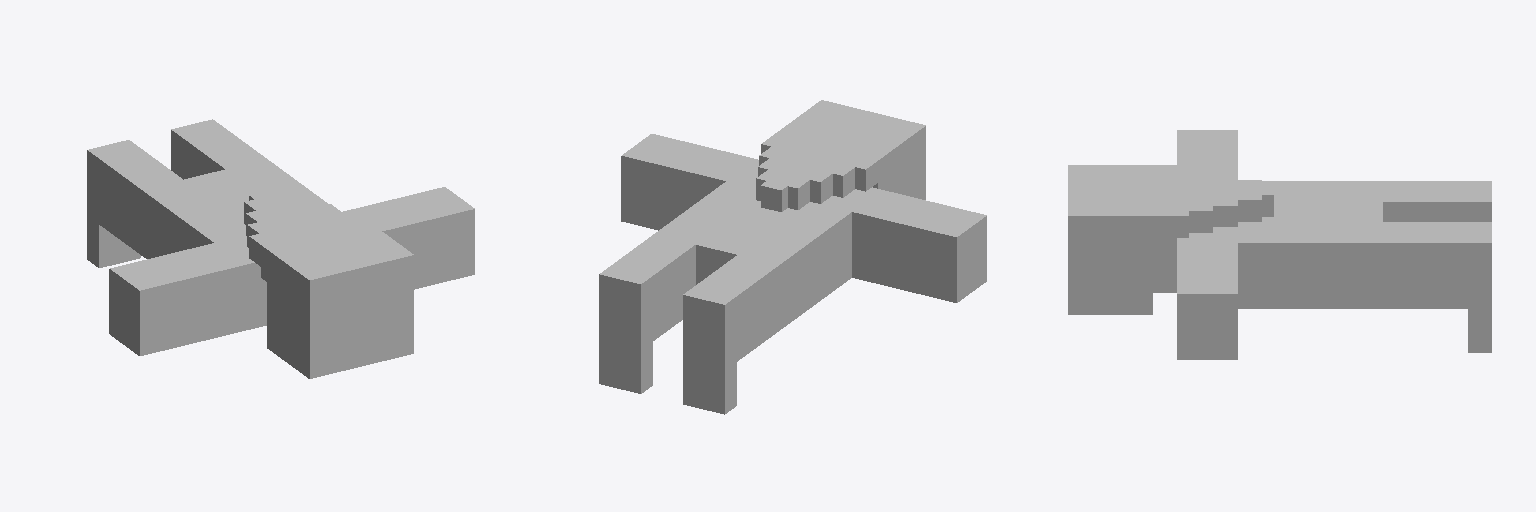
File: A INIMIGA.obj
3 renders of one model, left to right at view 1: azimuth 30°, elevation 25°; view 2: azimuth 150°, elevation 25°; view 3: azimuth 270°, elevation 25°, orthographic.
Visible parts, largest first — view 1: object 1; view 2: object 1; view 3: object 1.
Part boxes in pixels (left/top/right/bottom): object 1: left=87, top=119, right=474, bottom=378; object 1: left=599, top=100, right=986, bottom=414; object 1: left=1068, top=130, right=1491, bottom=359.
Bounding box in the file's own units: 3.2 × 1.2 × 3.5.